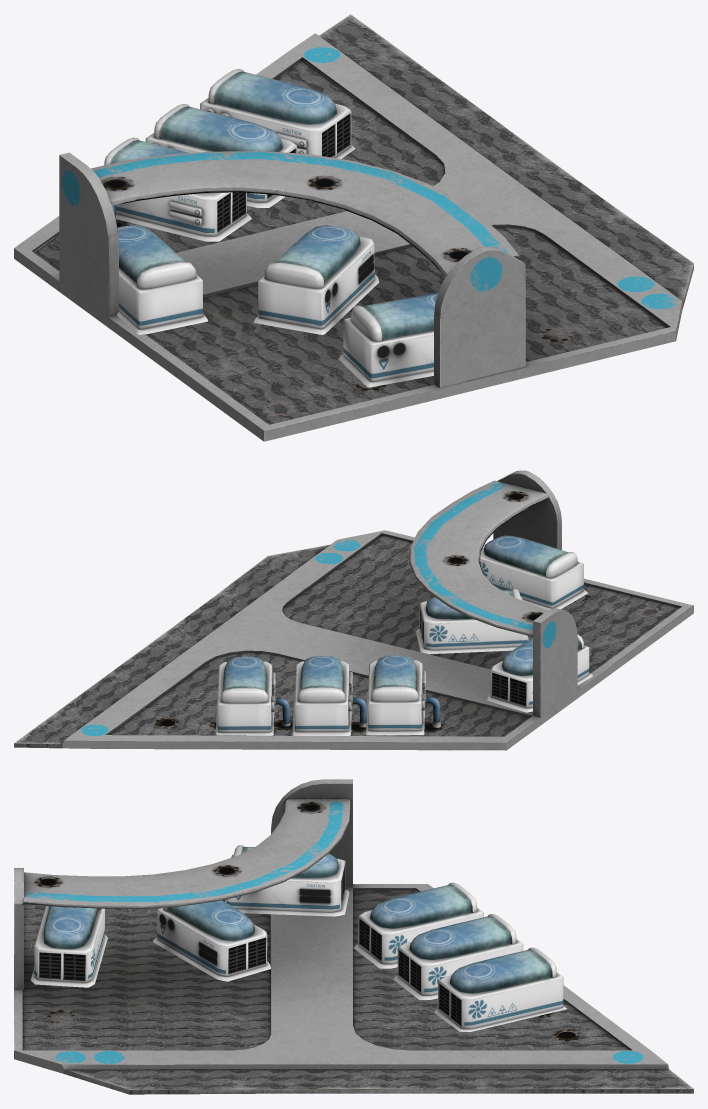
File: CryoNew.fbx
3 renders of one model, top to bottom at view 1: azimuth 30°, elevation 25°; view 2: azimuth 150°, elevation 25°; view 3: azimuth 270°, elevation 25°, orthographic. The views are drawn at different scales.
Parts seen in each view (by area): view 1: Plane.010, CryoLid; view 2: Plane.010, CryoLid; view 3: Plane.010, CryoLid.
Part boxes in pixels (left/top/right/bottom): Plane.010: left=14, top=14, right=693, bottom=441; CryoLid: left=104, top=69, right=437, bottom=387; Plane.010: left=14, top=470, right=693, bottom=750; CryoLid: left=216, top=535, right=592, bottom=735; Plane.010: left=14, top=779, right=693, bottom=1094; CryoLid: left=30, top=845, right=566, bottom=1031.
Bounding box in the file's own units: 843 × 221 × 1200.
